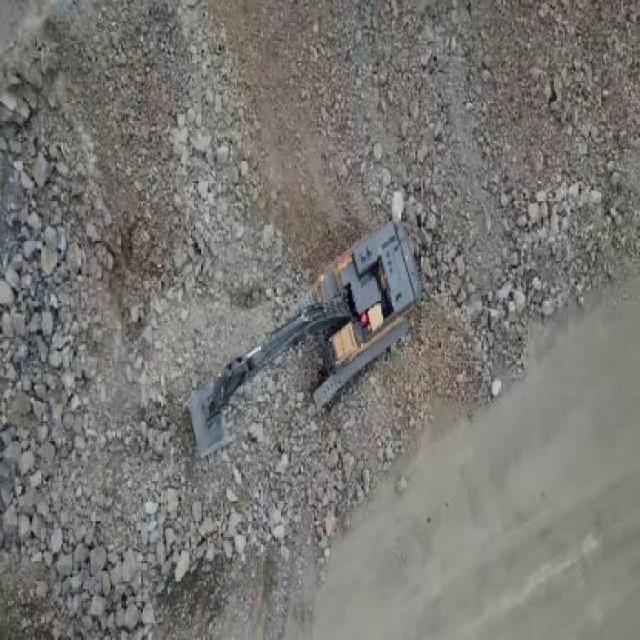Excavator: (186, 222, 419, 462)
